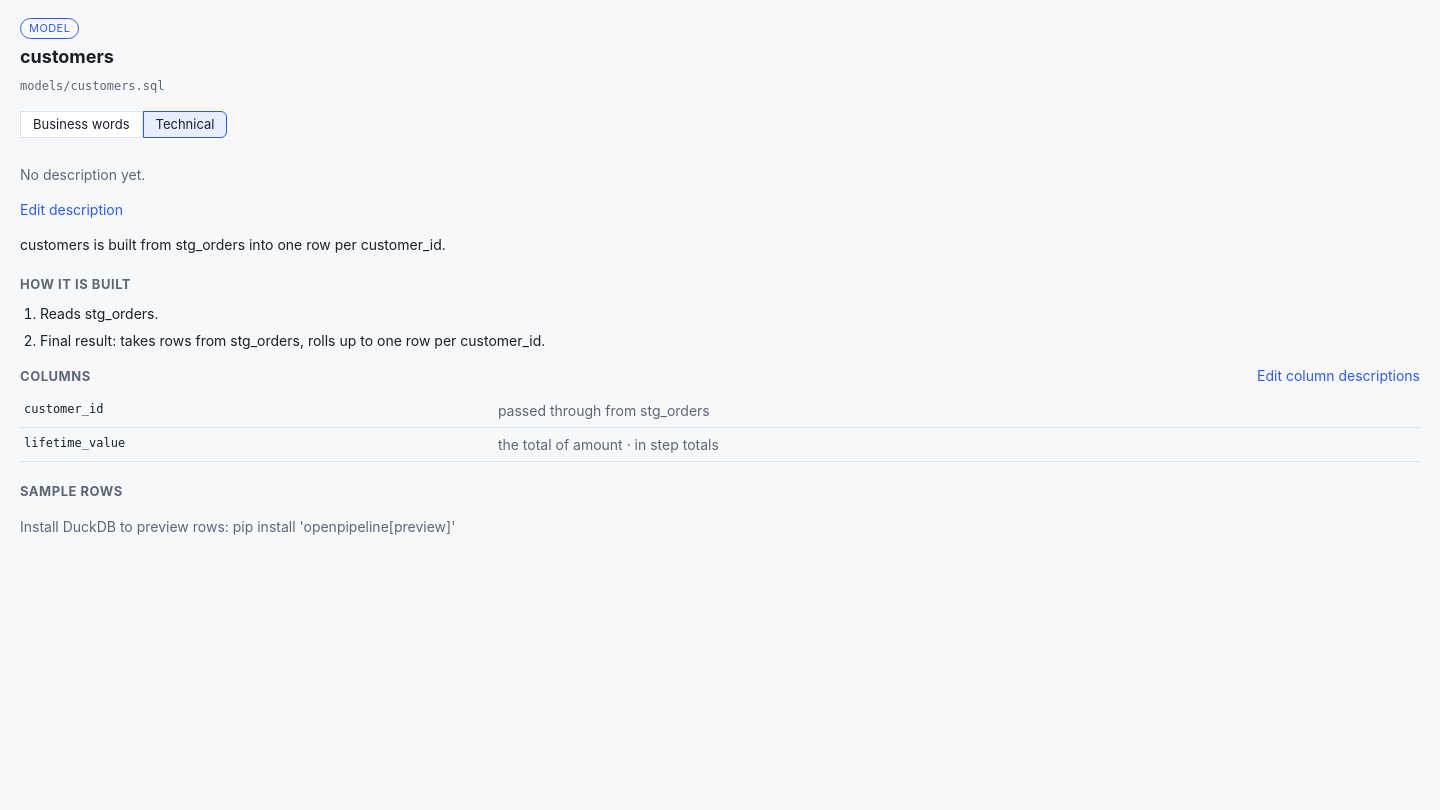
it: words toggle › switches to business words and remembers the choice
Click the button "Business words". click: coordinates (81, 124)
box: [20,110,142,138]
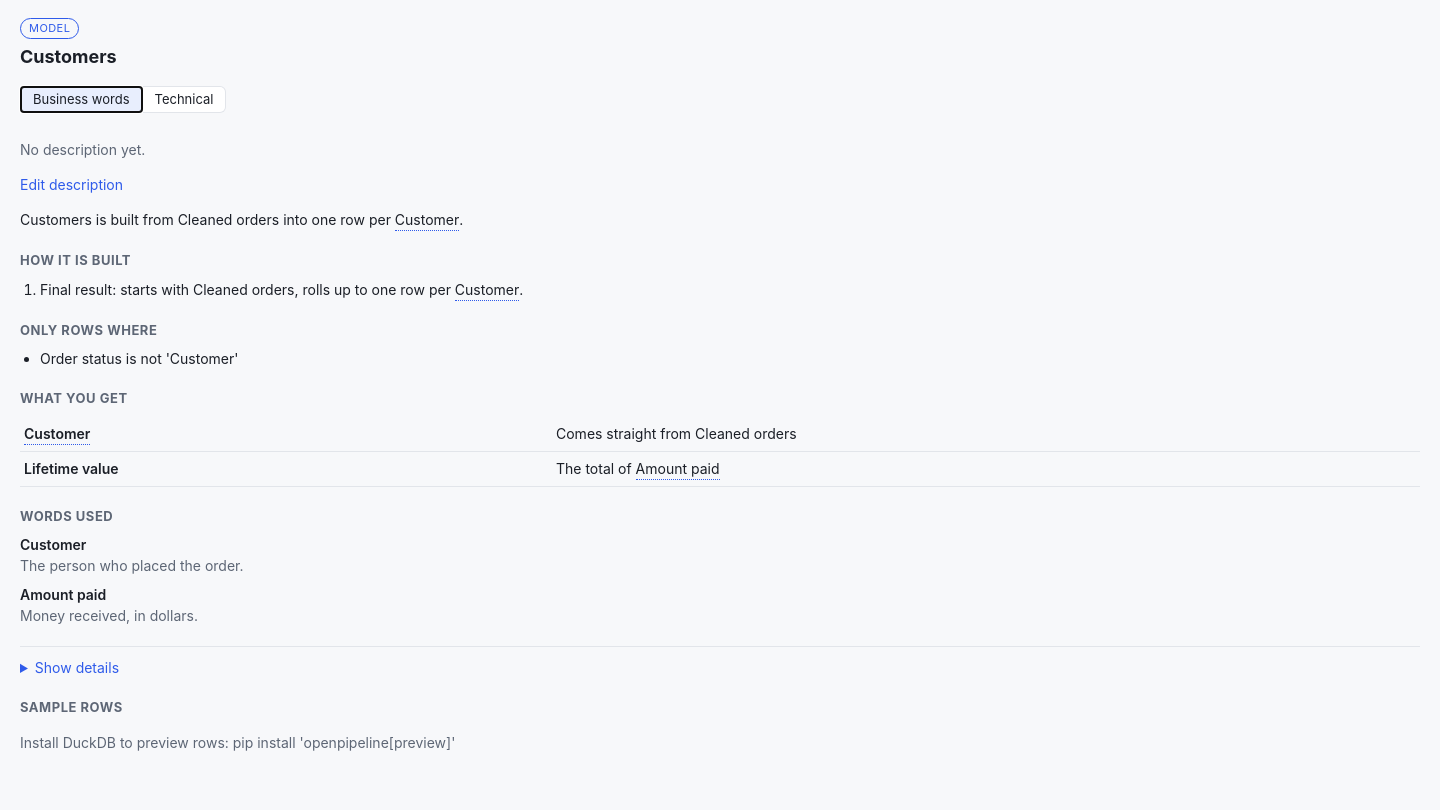
Result: the text "Customers is built from Cleaned orders" is shown at [20,211,395,228]
Result: the text "customers is built from stg_orders into one row per customer_id." is gone
Result: the text "models/customers.sql" is gone
Click the button "Technical". click: coordinates (184, 99)
box: [142,86,226,113]
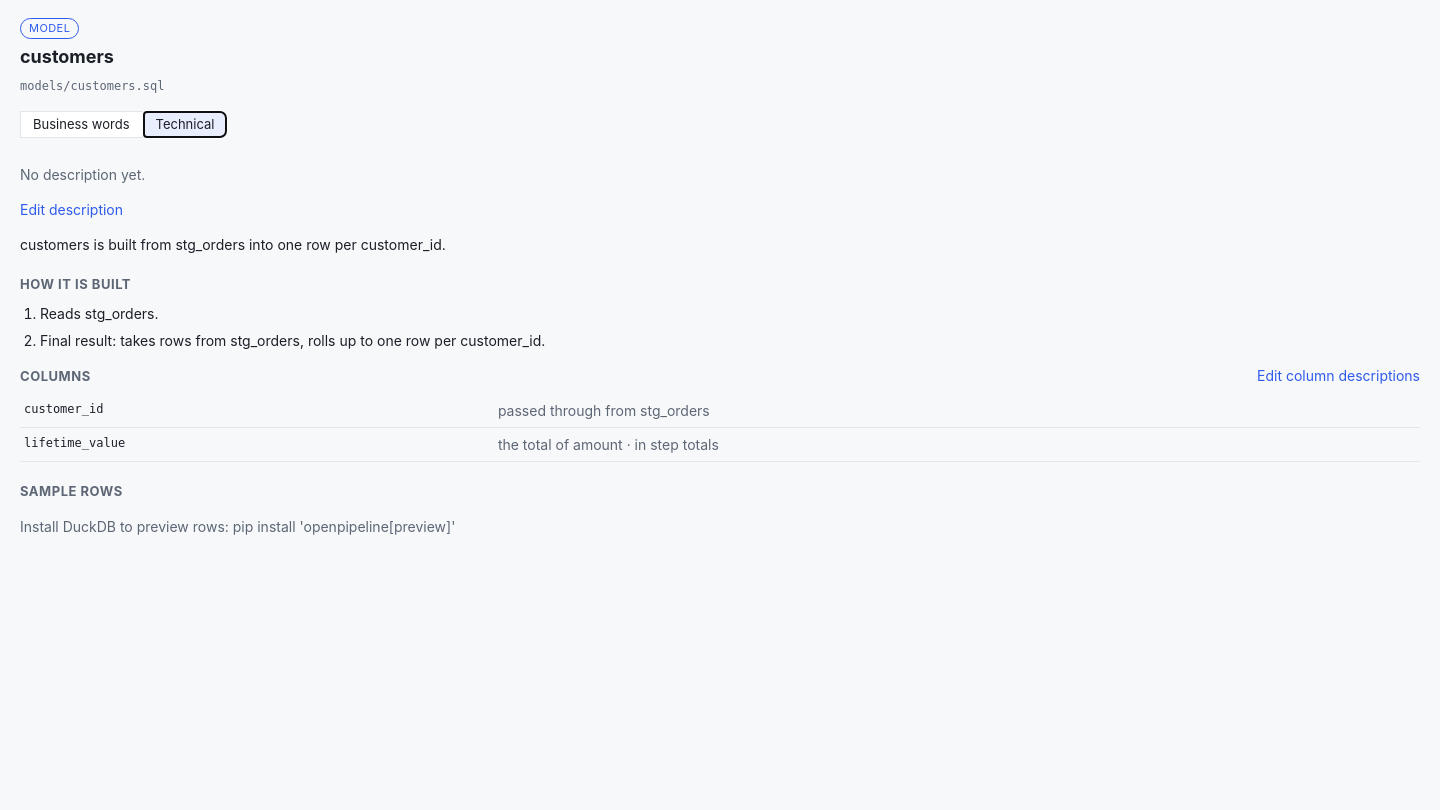
Result: the text "customers is built from stg_orders into one row per customer_id." is shown at [20,236,446,253]
